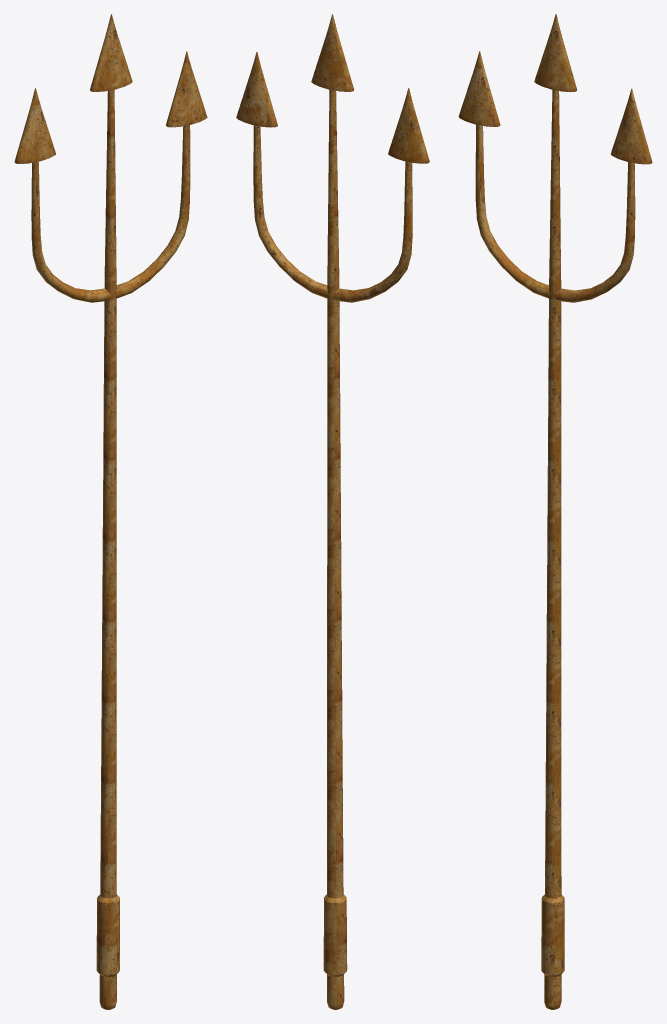
The model's file is fbTrident.fbx.
3 renders of one model, left to right at view 1: azimuth 30°, elevation 25°; view 2: azimuth 150°, elevation 25°; view 3: azimuth 330°, elevation 25°, orthographic.
Parts seen in each view (by area): view 1: Trident; view 2: Trident; view 3: Trident.
Boxes of the visible parts, x1,y1,x2,y2 form: Trident: [14, 14, 207, 1009]; Trident: [236, 14, 429, 1009]; Trident: [458, 14, 652, 1009].
Size of the model in its own units: 3.53 by 17.47 by 0.3747.
1 material, 1 textured.
